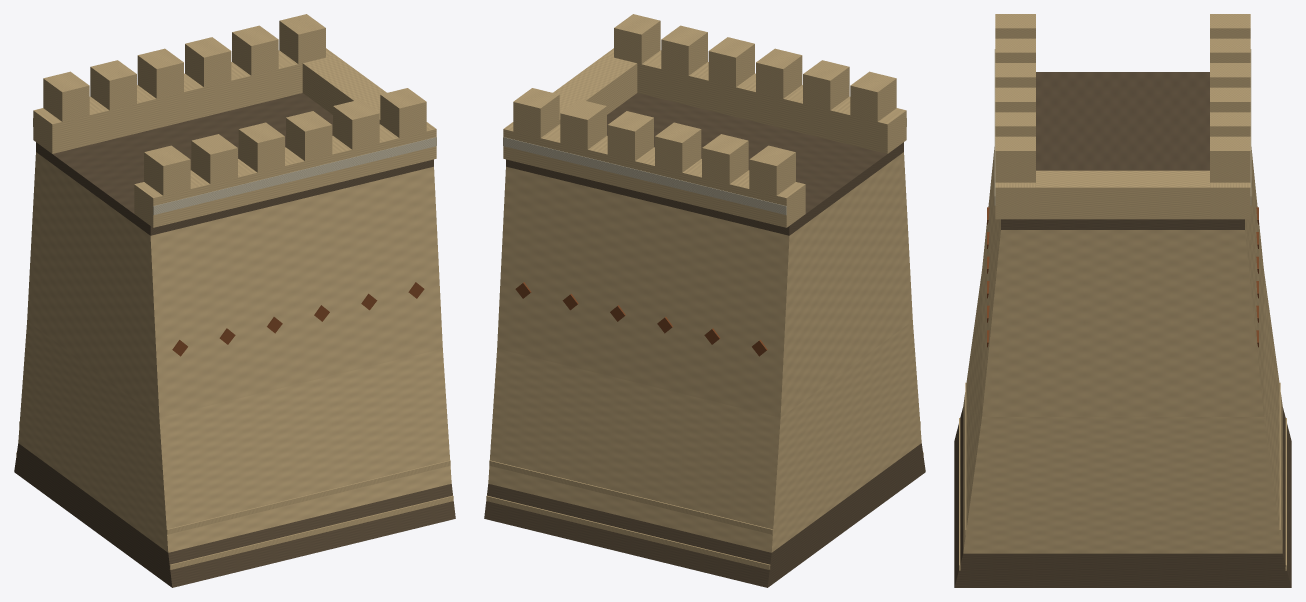
Rendered from Berber_Wall_Age4_end_6m.fbx.
3 views of the same model, side by side, from view 1: azimuth 30°, elevation 25°; view 2: azimuth 150°, elevation 25°; view 3: azimuth 270°, elevation 25° (orthographic). The views are drawn at different scales.
Visible parts, largest first — view 1: end_6m_rammed_curtain_upper, end_6m_rammed_curtain_lower, end_6m_battered_stone_foot, end_6m_walk_deck, end_6m_parapet.001, end_6m_parapet, end_6m_terminal_parapet, end_6m_owner_painted_band, end_6m_merlon.002, end_6m_merlon.006, end_6m_merlon.004, end_6m_merlon.005 (+11 smaller); view 2: end_6m_rammed_curtain_upper, end_6m_rammed_curtain_lower, end_6m_battered_stone_foot, end_6m_walk_deck, end_6m_parapet, end_6m_parapet.001, end_6m_terminal_parapet, end_6m_owner_painted_band.001, end_6m_merlon, end_6m_merlon.008, end_6m_merlon.005, end_6m_merlon.004 (+10 smaller); view 3: end_6m_rammed_curtain_upper, end_6m_rammed_curtain_lower, end_6m_walk_deck, end_6m_battered_stone_foot, end_6m_terminal_parapet, end_6m_merlon.011, end_6m_merlon.005, end_6m_parapet, end_6m_parapet.001, end_6m_merlon.009, end_6m_merlon.003, end_6m_merlon (+7 smaller).
Part boxes in pixels (x1=…): end_6m_rammed_curtain_upper: x1=27, y1=152, x2=442, y2=417; end_6m_rammed_curtain_lower: x1=18, y1=321, x2=451, y2=552; end_6m_battered_stone_foot: x1=14, y1=443, x2=455, y2=587; end_6m_walk_deck: x1=36, y1=93, x2=433, y2=235; end_6m_parapet.001: x1=33, y1=48, x2=335, y2=153; end_6m_parapet: x1=134, y1=122, x2=436, y2=227; end_6m_terminal_parapet: x1=302, y1=55, x2=386, y2=123; end_6m_owner_painted_band: x1=153, y1=137, x2=436, y2=215; end_6m_merlon.002: x1=238, y1=122, x2=284, y2=172; end_6m_merlon.006: x1=43, y1=71, x2=89, y2=121; end_6m_merlon.004: x1=333, y1=99, x2=379, y2=149; end_6m_merlon.005: x1=380, y1=88, x2=426, y2=137; end_6m_rammed_curtain_upper: x1=497, y1=152, x2=912, y2=417; end_6m_rammed_curtain_lower: x1=488, y1=321, x2=921, y2=552; end_6m_battered_stone_foot: x1=484, y1=443, x2=925, y2=587; end_6m_walk_deck: x1=506, y1=93, x2=903, y2=235; end_6m_parapet: x1=604, y1=48, x2=906, y2=153; end_6m_parapet.001: x1=503, y1=122, x2=805, y2=227; end_6m_terminal_parapet: x1=553, y1=55, x2=637, y2=123; end_6m_owner_painted_band.001: x1=503, y1=137, x2=786, y2=215; end_6m_merlon: x1=850, y1=71, x2=896, y2=121; end_6m_merlon.008: x1=655, y1=122, x2=701, y2=172; end_6m_merlon.005: x1=614, y1=14, x2=660, y2=64; end_6m_merlon.004: x1=661, y1=25, x2=707, y2=75; end_6m_rammed_curtain_upper: x1=982, y1=147, x2=1263, y2=416; end_6m_rammed_curtain_lower: x1=963, y1=271, x2=1282, y2=553; end_6m_walk_deck: x1=1001, y1=72, x2=1244, y2=229; end_6m_battered_stone_foot: x1=954, y1=407, x2=1291, y2=587; end_6m_terminal_parapet: x1=1036, y1=170, x2=1209, y2=219; end_6m_merlon.011: x1=1210, y1=136, x2=1250, y2=182; end_6m_merlon.005: x1=995, y1=136, x2=1035, y2=182; end_6m_parapet: x1=995, y1=182, x2=1035, y2=219; end_6m_parapet.001: x1=1210, y1=182, x2=1250, y2=219; end_6m_merlon.009: x1=1210, y1=87, x2=1250, y2=112; end_6m_merlon.003: x1=995, y1=87, x2=1035, y2=112; end_6m_merlon: x1=995, y1=14, x2=1035, y2=38.
Bounding box in the file's own units: 600 × 820 × 580.
4 materials, 4 textured.
